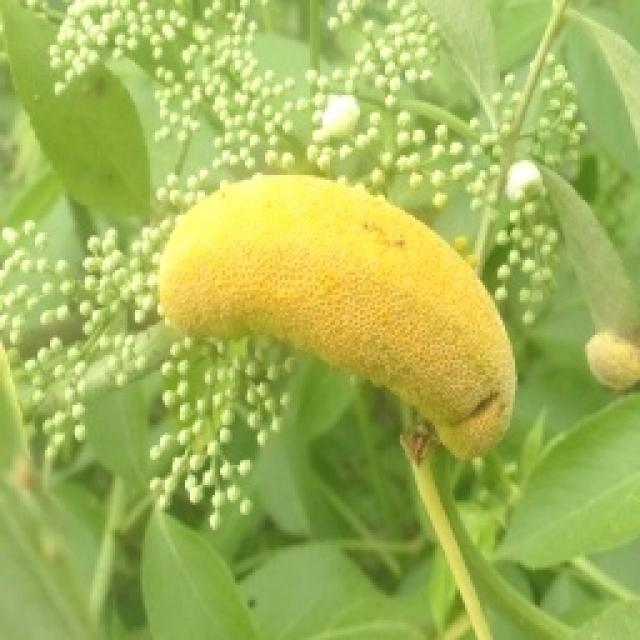Elderberry_rust: (152, 170, 518, 462)
